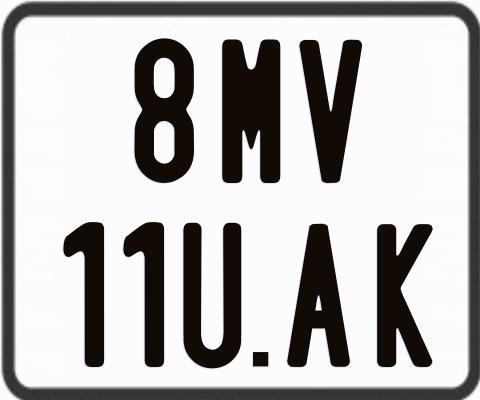1: (122, 221, 167, 366), (62, 222, 104, 369)
8: (131, 35, 193, 183)
A: (284, 222, 351, 369)
K: (375, 222, 436, 367)
M: (221, 37, 279, 186)
U: (183, 221, 246, 368)
V: (298, 39, 366, 188)
